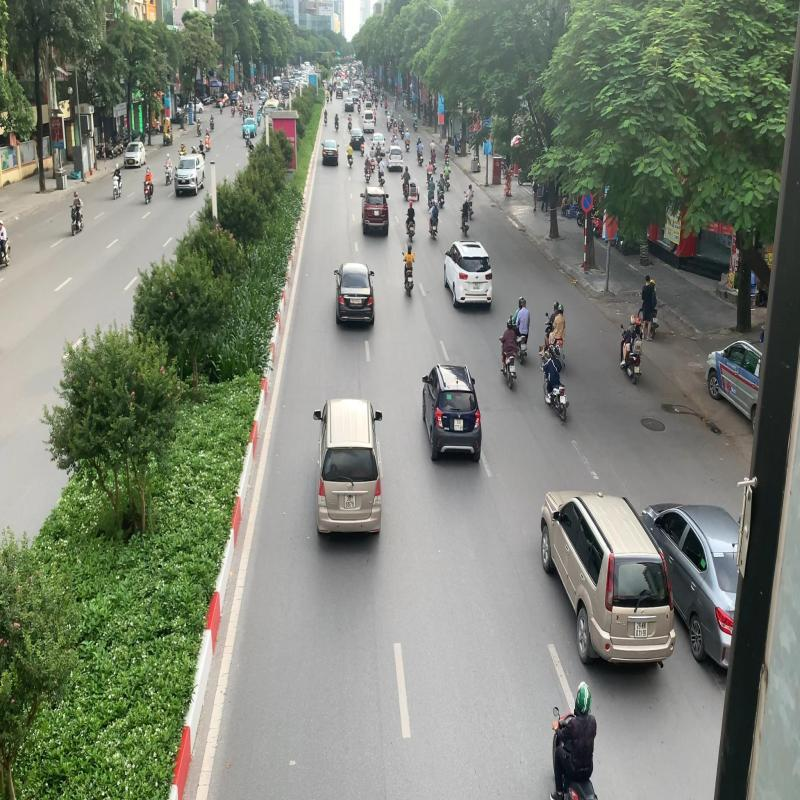helmet: (576, 680, 592, 716), (554, 345, 560, 355)
licenseplate: (560, 395, 566, 404)
motorcyclist: (541, 343, 570, 424)
